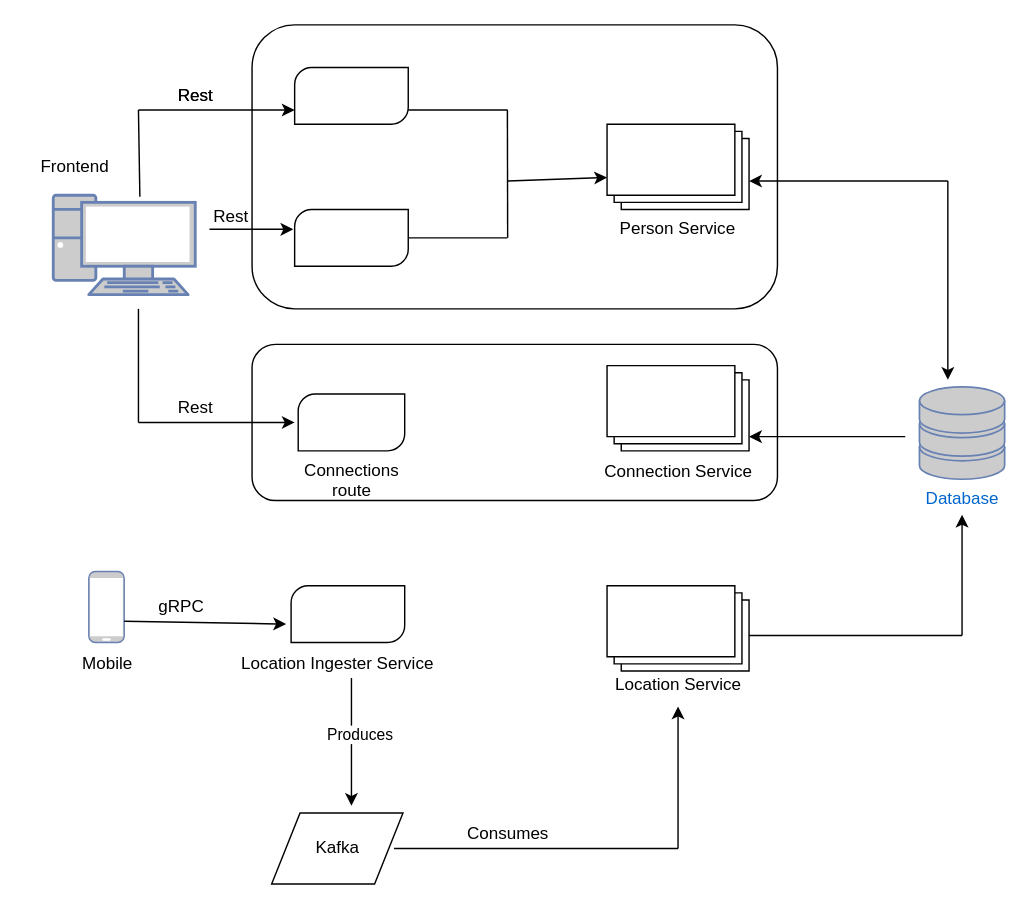
The diagram is 1030 pixels wide and 909 high, and some of its shapes have lost their labels. The centre of each missing label's shape, as x and y in pixels:
Person Route: [350,95]
Persons route: [350,237]
